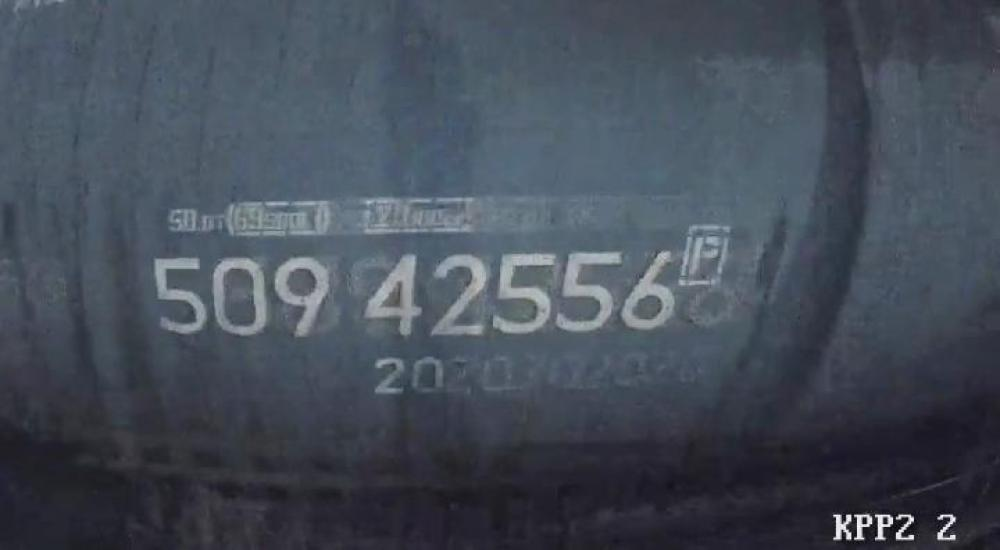Wagon-number: (144, 242, 687, 345)
